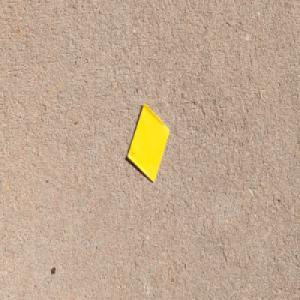PlasticPart: (126, 102, 171, 185)
